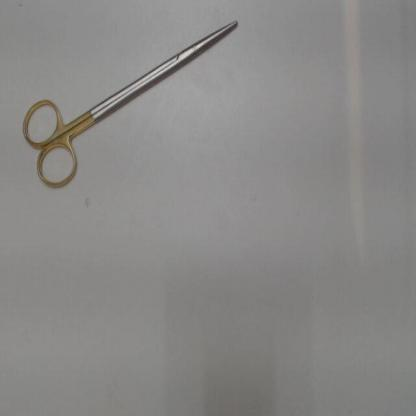7 Metzenbaum Scissors: (19, 18, 242, 194)
